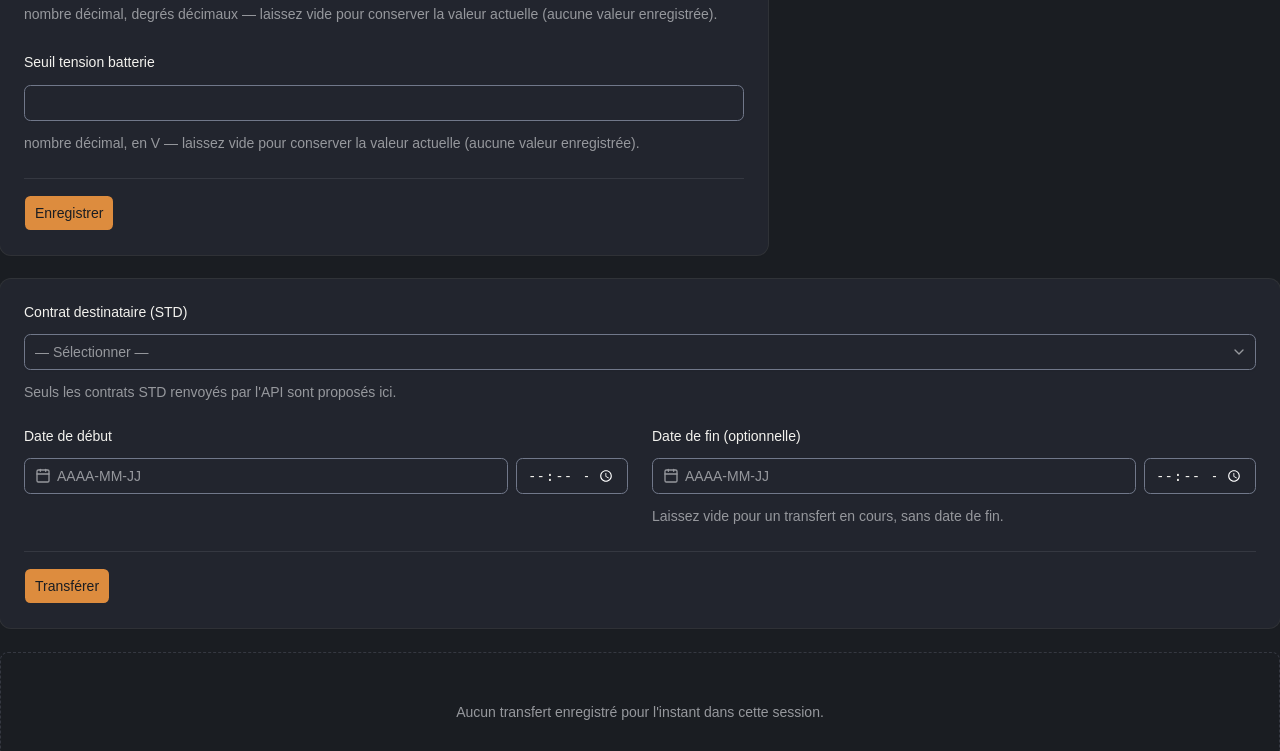
Test: PilotageWorkspace (KAN-159 FR2-FR6, NFR2, NFR4) › mounts the transfer form and history section for the first device by default (KAN-169 FR14, FR18)
(page scrolled)
Check: the form with test id "transfer-form" is shown, box [24,302,1256,604]
Click the dropdown with test id "transfer-field-target".
click(92, 352)  # box [24,334,1256,370]
(page scrolled)
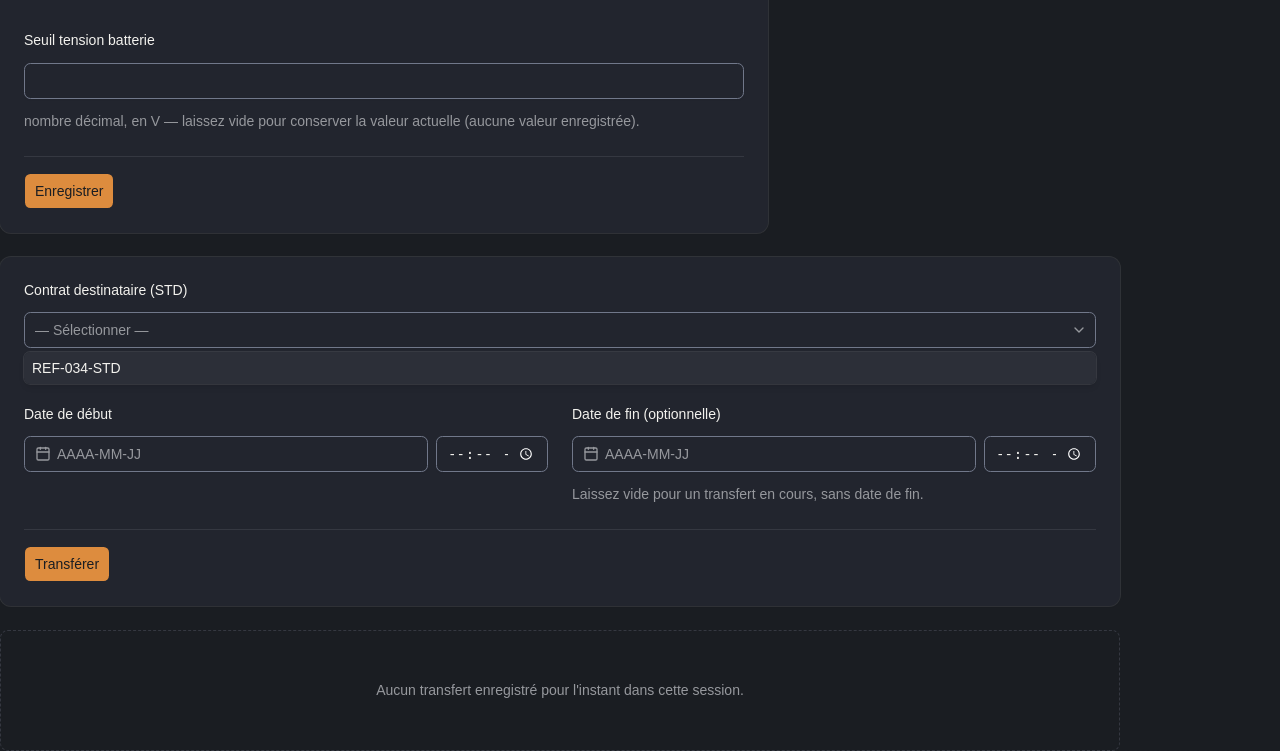
Check: the element with test id "transfer-history-empty" is shown, box [0,630,1120,750]
Check: the option with test id "transfer-target-option-34" is shown, box [24,352,1096,384]
